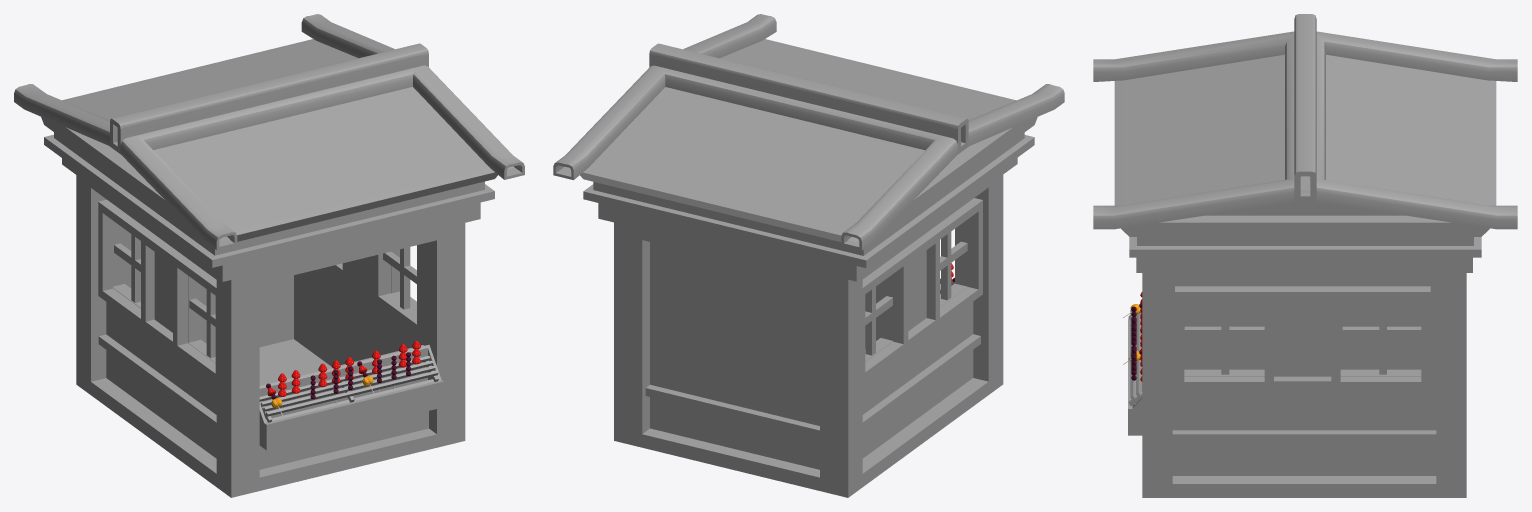
Rendered from Market_food.fbx.
3 views of the same model, side by side, from view 1: azimuth 30°, elevation 25°; view 2: azimuth 150°, elevation 25°; view 3: azimuth 270°, elevation 25° (orthographic). The views are drawn at different scales.
Parts seen in each view (by area): view 1: Market_polySurface16, Roof, Grill; view 2: Market_polySurface16, Roof; view 3: Roof, Market_polySurface16, Grill.
Boxes of the visible parts, left/top/right/bottom form: Market_polySurface16: left=62, top=158, right=480, bottom=497; Roof: left=14, top=14, right=524, bottom=267; Grill: left=259, top=356, right=438, bottom=422; Market_polySurface16: left=598, top=158, right=1017, bottom=497; Roof: left=553, top=14, right=1064, bottom=268; Roof: left=1093, top=14, right=1517, bottom=257; Market_polySurface16: left=1128, top=176, right=1472, bottom=497; Grill: left=1128, top=310, right=1142, bottom=405.
Size of the model in its own units: 11.99 by 12.23 by 13.64.
